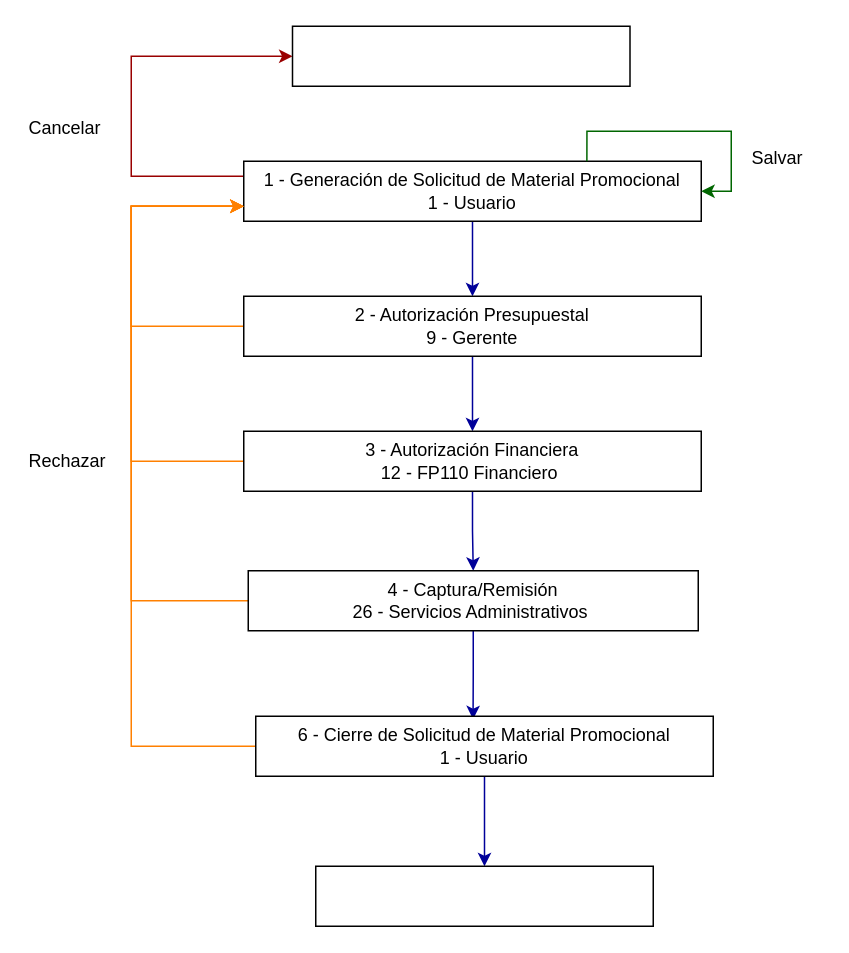
Image size: 849x953. Some labels were removed from this diagram. Each missing label, with the centre of its shape:
"100 - Solicitud Finalizada" belongs at point 483,895.
"101 - Solicitud Cancelada" belongs at point 460,55.
